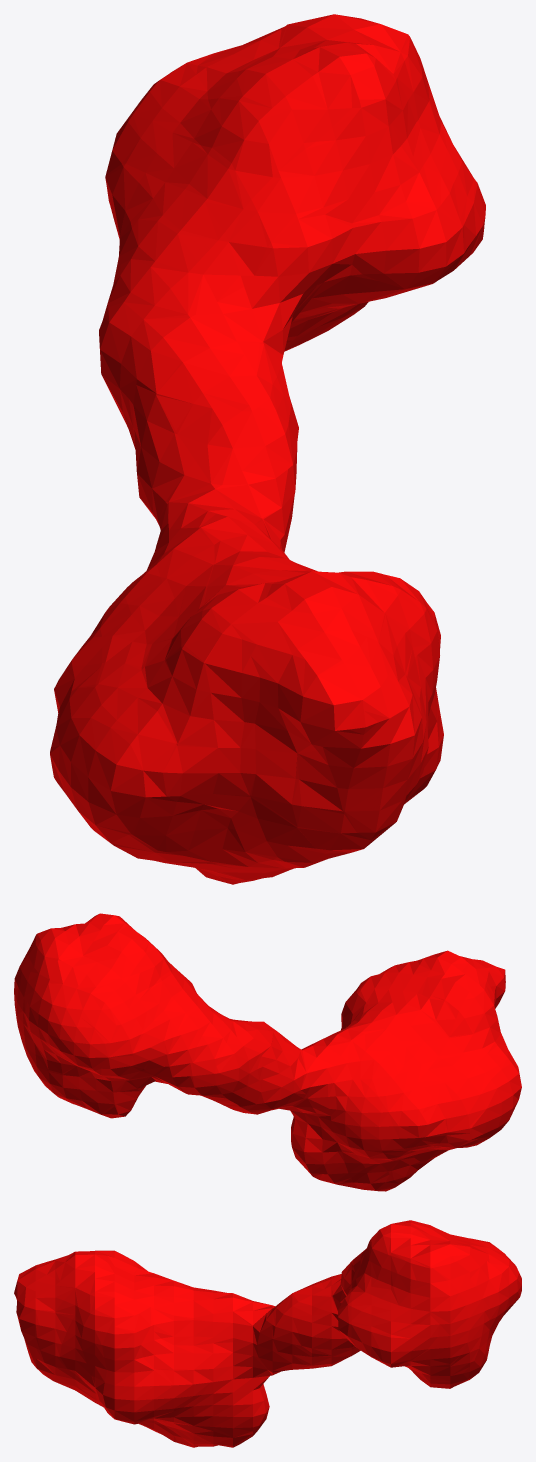
Rendered from infC_coarse.dae.
3 renders of one model, top to bottom at view 1: azimuth 30°, elevation 25°; view 2: azimuth 150°, elevation 25°; view 3: azimuth 270°, elevation 25°, orthographic. The views are drawn at different scales.
Parts seen in each view (by area): view 1: infC; view 2: infC; view 3: infC.
Boxes of the visible parts, x1,y1,x2,y2 form: infC: (50, 14, 485, 884); infC: (14, 913, 521, 1191); infC: (14, 1220, 521, 1447).
Size of the model in its own units: 63.14 by 54.82 by 84.87.
